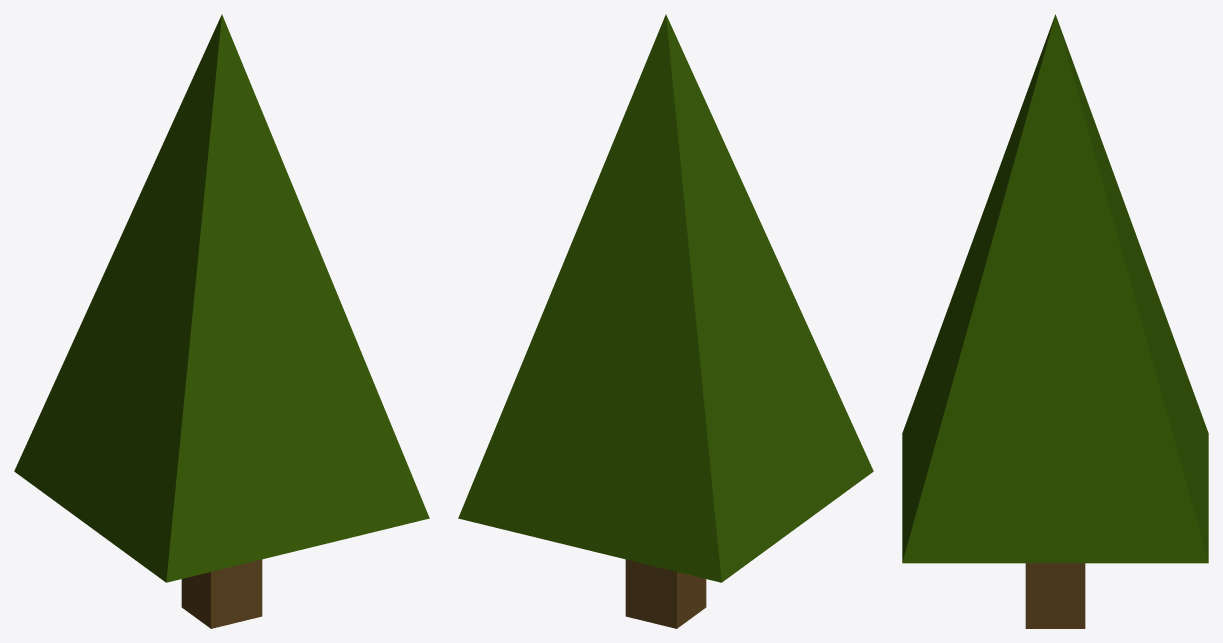
Rendered from 052 Xmas_Tree.fbx.
3 views of the same model, side by side, from view 1: azimuth 30°, elevation 25°; view 2: azimuth 150°, elevation 25°; view 3: azimuth 270°, elevation 25° (orthographic).
Visible parts, largest first — view 1: Lowpoly_Christmas_Pack_052:pCube1; view 2: Lowpoly_Christmas_Pack_052:pCube1; view 3: Lowpoly_Christmas_Pack_052:pCube1.
Part boxes in pixels (x1,y1,x2,y2): Lowpoly_Christmas_Pack_052:pCube1: (14,14,429,628); Lowpoly_Christmas_Pack_052:pCube1: (458,14,873,628); Lowpoly_Christmas_Pack_052:pCube1: (902,14,1208,628).
Size of the model in its own units: 1 by 2.17 by 1.
